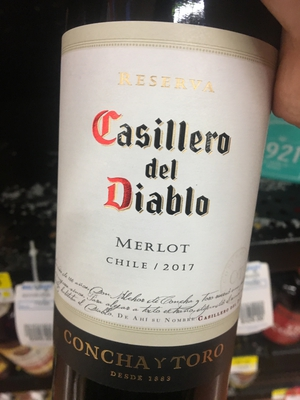casillero del diablo merlot: (42, 5, 280, 400)
